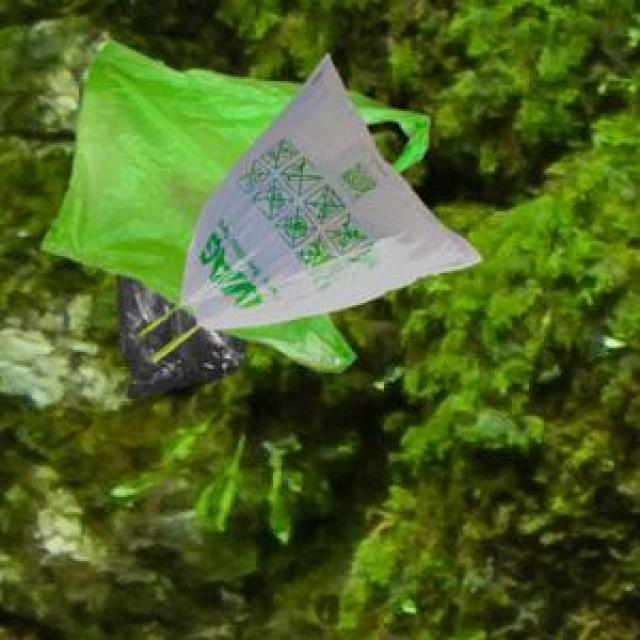plastic: (40, 27, 473, 399)
